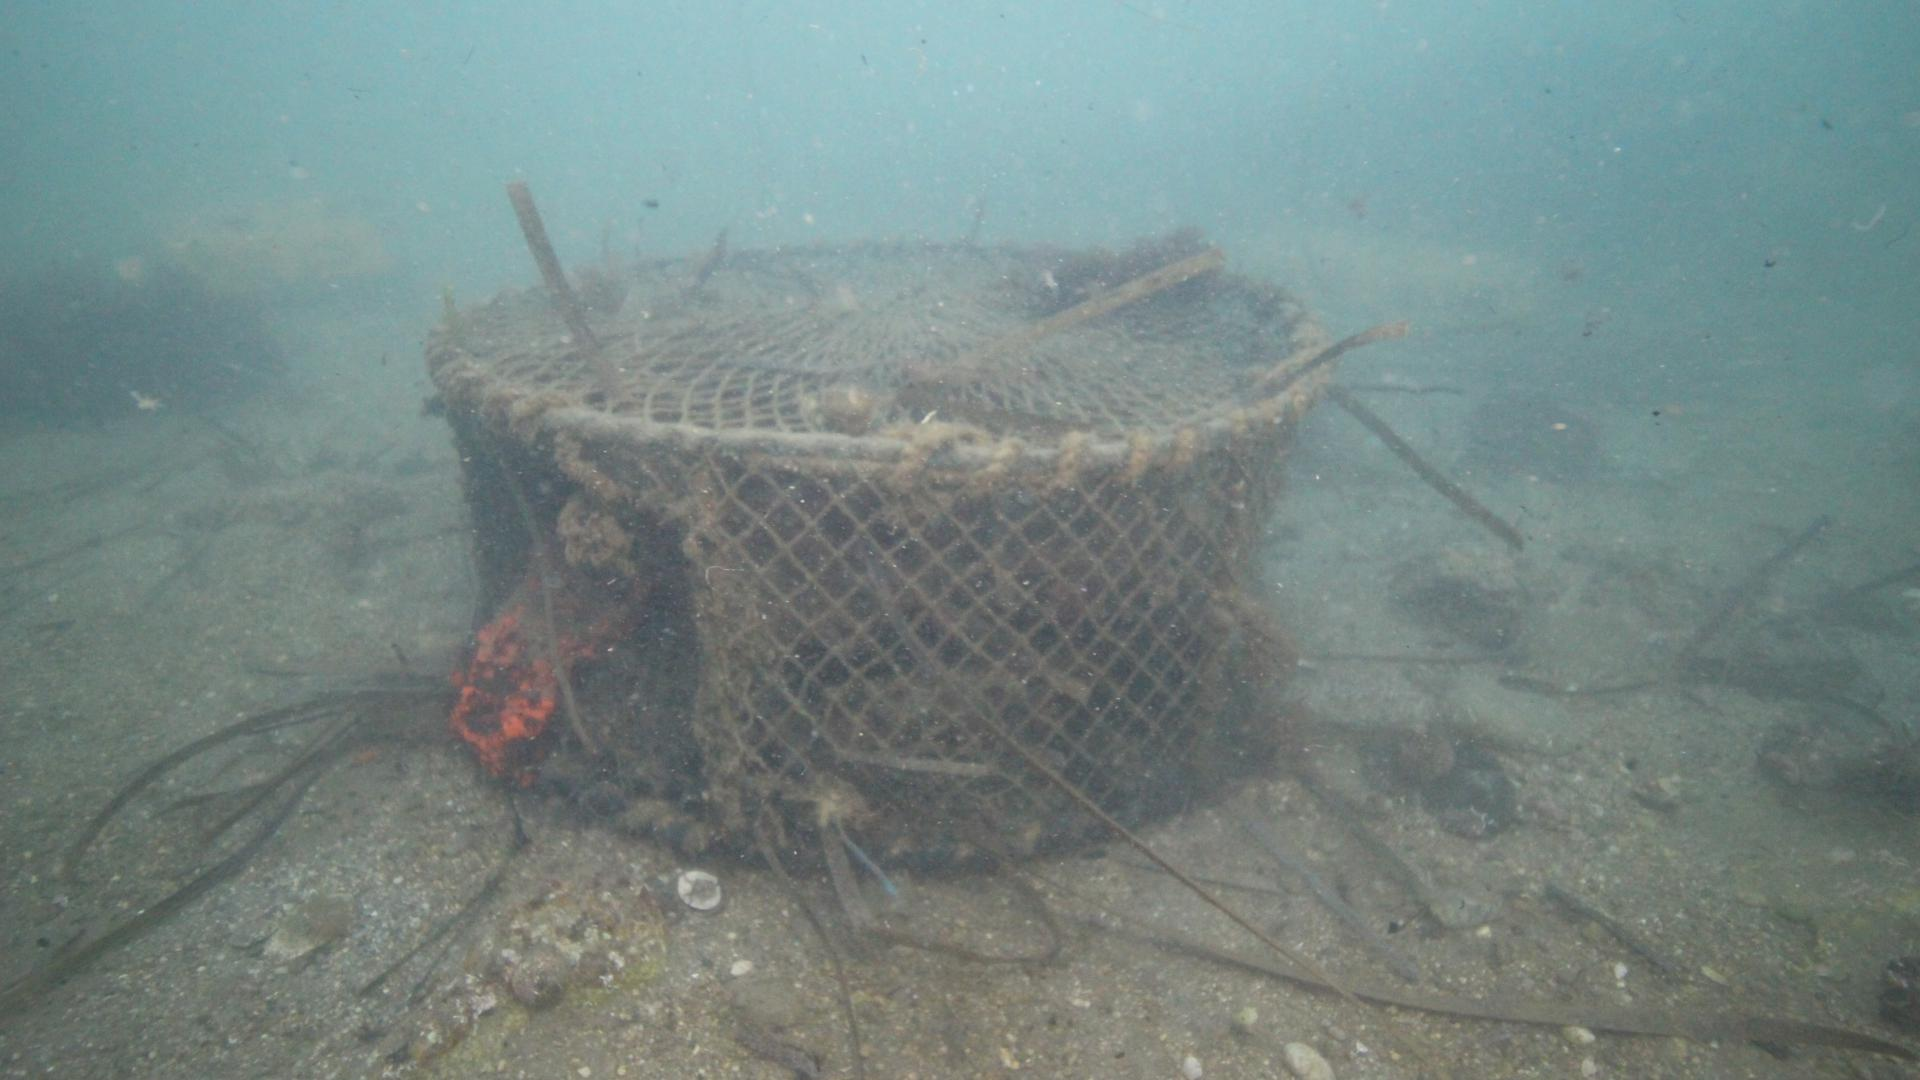circular fish trap: (421, 235, 1337, 872)
